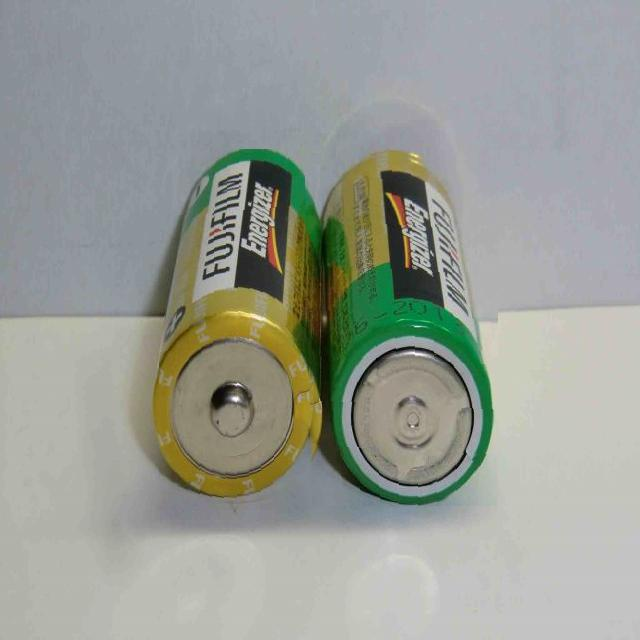battery: (304, 152, 498, 506), (159, 149, 323, 512)
